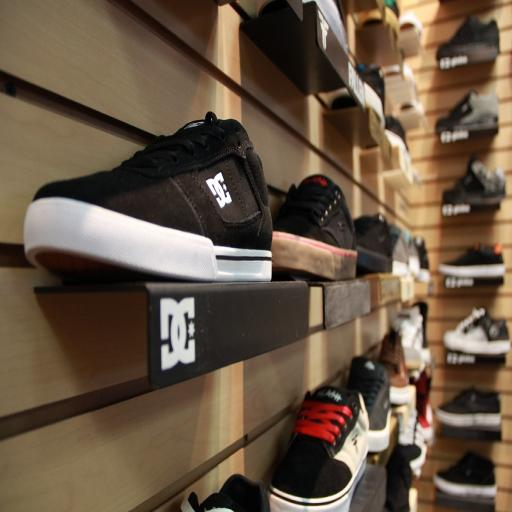shoe: (24, 112, 272, 281), (269, 386, 369, 512), (271, 175, 357, 280), (347, 356, 391, 452), (321, 64, 385, 127), (442, 155, 506, 215), (436, 15, 500, 69), (180, 474, 270, 512), (443, 308, 511, 356), (433, 452, 497, 498), (436, 90, 498, 133), (436, 388, 502, 428), (302, 0, 348, 54), (378, 329, 410, 406), (393, 306, 430, 371), (439, 243, 505, 278), (354, 214, 392, 274), (397, 409, 427, 477), (356, 63, 386, 127), (384, 447, 412, 512), (414, 370, 434, 444), (384, 116, 412, 166), (413, 302, 431, 364), (358, 0, 400, 26), (390, 224, 410, 277), (385, 116, 409, 154), (402, 230, 420, 278), (414, 236, 430, 283), (399, 10, 423, 39), (384, 0, 400, 18)
